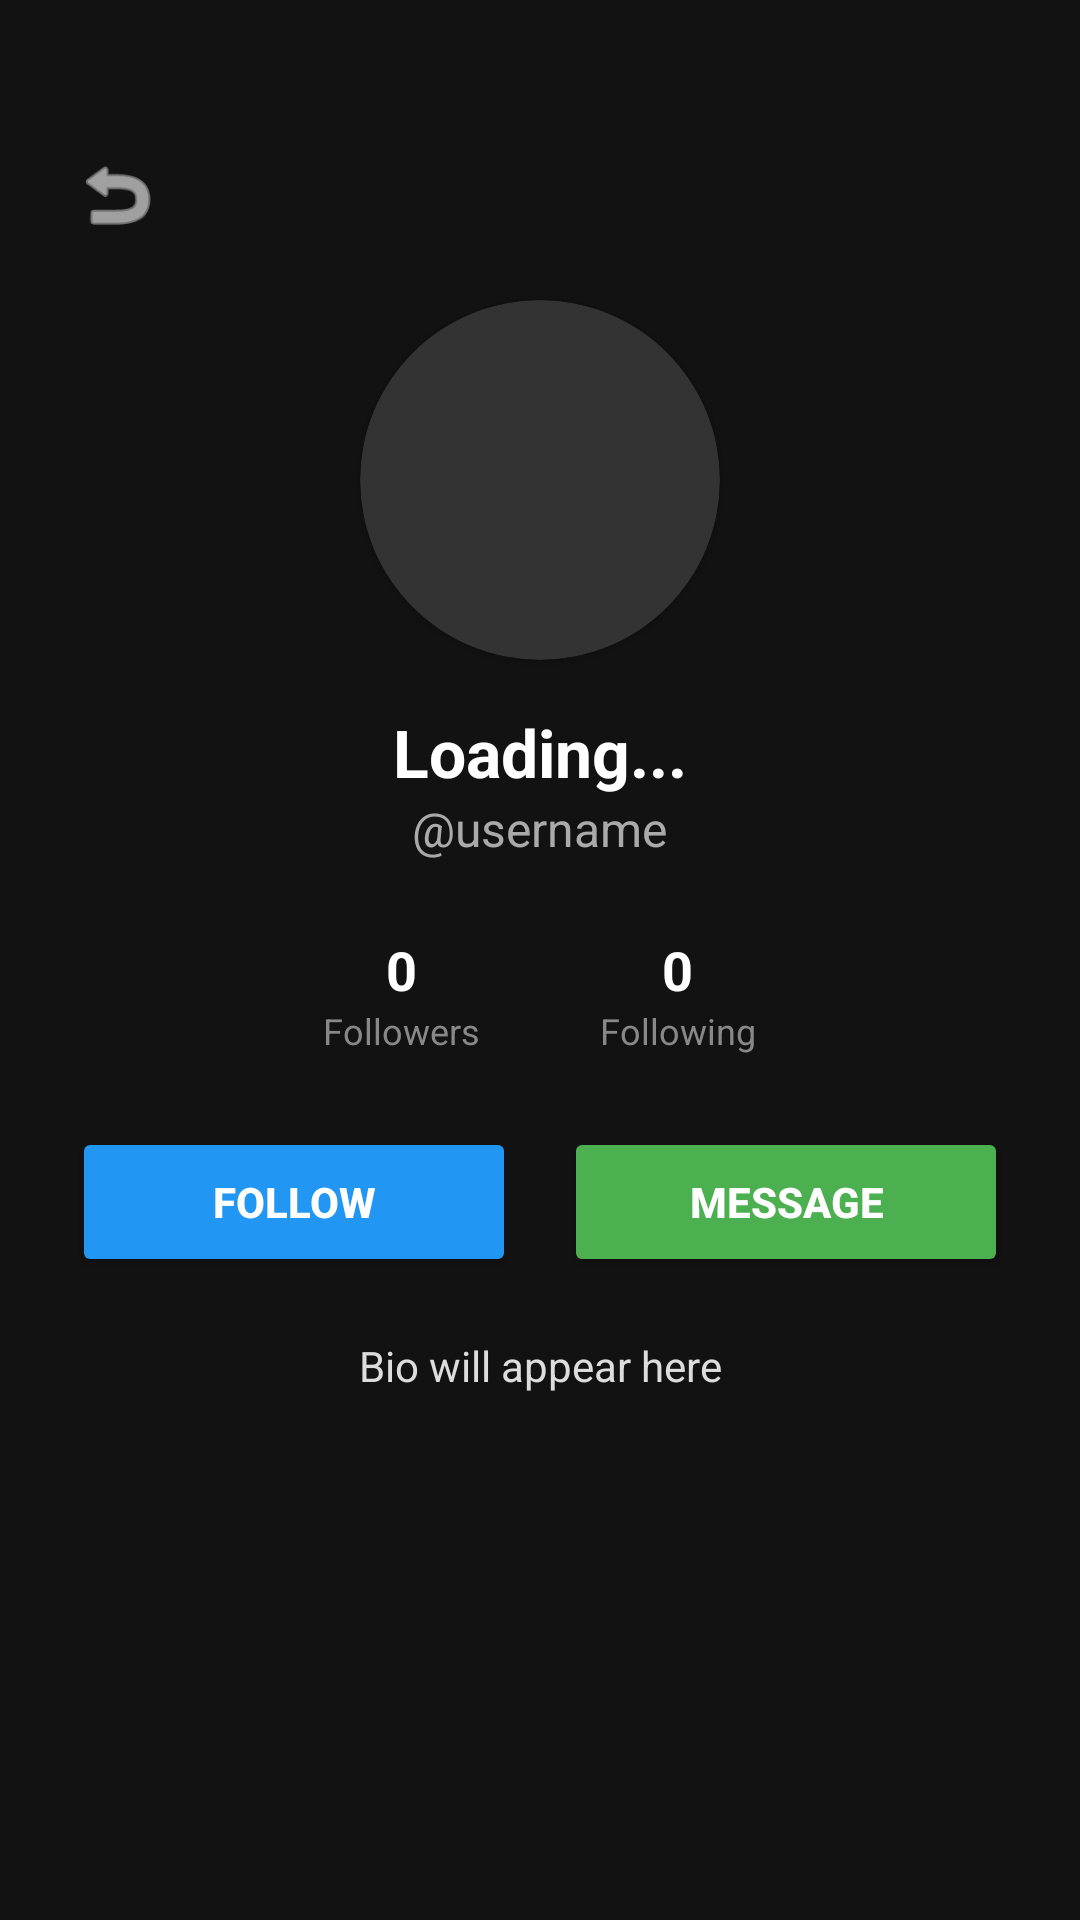

Named icons in this screenshot (1080x1920) and their centers, (x,y):
Back: (118,195)
